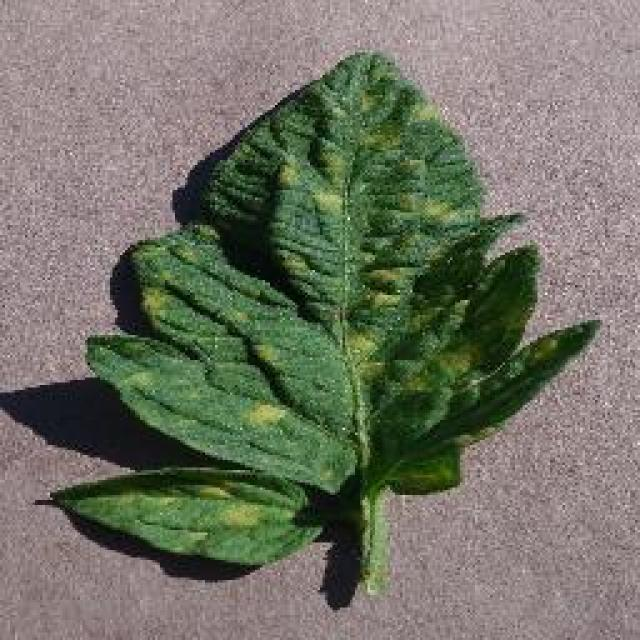Tomato mold leaf: (48, 45, 600, 570)
